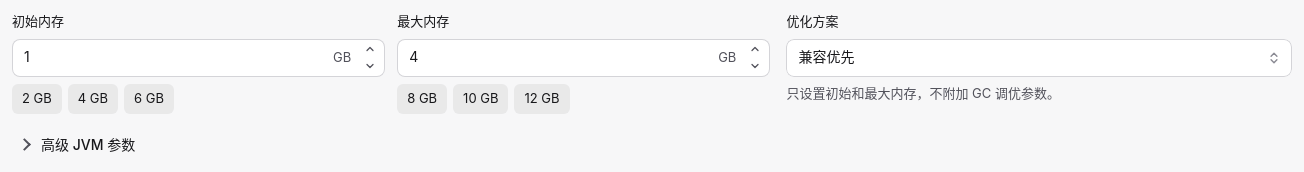
Test: memory: the arrows still step when an old value is only a few MiB off a whole GB (4100M shows 4)
Later steps or results of the test are not shown.
Expected: the field labelled "最大内存" holds "4", x1=397 y1=38 x2=770 y2=76
Click the button named "最大内存减 1 GB" at (755, 66), box x1=743 y1=58 x2=767 y2=74
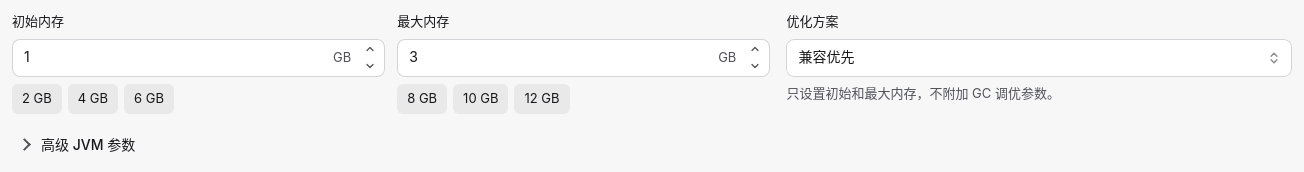
Expected: the field labelled "最大内存" holds "3", x1=397 y1=38 x2=770 y2=76
